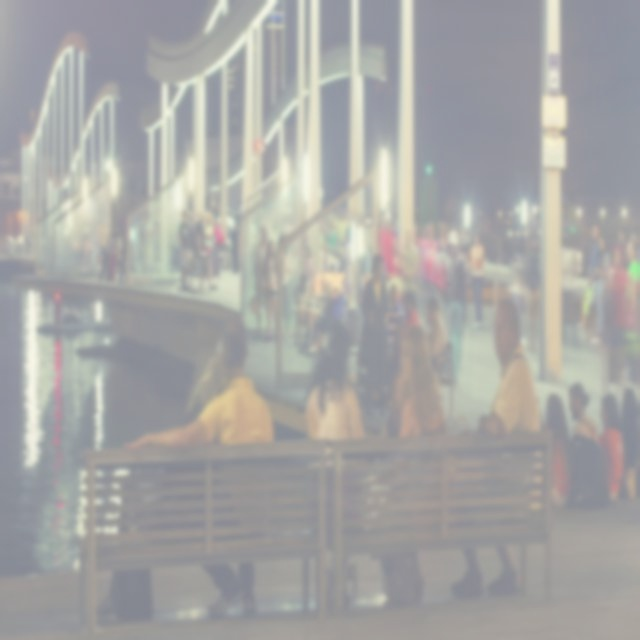pessoa: (120, 327, 277, 620), (108, 350, 234, 624), (450, 297, 543, 600), (382, 326, 447, 608), (304, 318, 368, 446), (355, 250, 390, 418), (620, 384, 640, 564), (307, 262, 345, 354), (596, 392, 624, 503), (544, 392, 569, 509), (608, 244, 628, 387), (384, 281, 406, 404), (568, 380, 604, 452), (590, 234, 612, 346), (299, 302, 346, 354), (445, 220, 466, 331), (583, 222, 602, 342), (524, 234, 542, 360), (416, 218, 446, 290), (77, 229, 116, 283), (425, 296, 448, 387), (467, 228, 487, 332), (400, 221, 419, 324), (382, 376, 410, 444), (254, 222, 270, 334), (356, 237, 374, 335), (278, 234, 294, 342), (137, 206, 158, 286), (262, 240, 278, 340), (292, 268, 311, 352), (318, 209, 352, 251), (626, 234, 640, 334), (626, 241, 640, 336), (377, 213, 397, 275), (210, 214, 226, 286), (177, 206, 190, 292), (398, 289, 420, 339), (116, 200, 128, 288), (288, 238, 300, 322), (108, 229, 125, 284), (230, 204, 242, 275), (612, 224, 628, 264), (501, 228, 516, 266), (196, 209, 207, 256), (203, 212, 214, 256), (302, 242, 314, 282), (188, 218, 198, 264), (18, 228, 31, 258), (516, 220, 540, 236), (190, 216, 198, 255), (391, 212, 398, 240), (366, 218, 374, 240), (398, 312, 408, 328), (216, 192, 222, 216), (206, 186, 210, 212), (188, 189, 192, 207)
